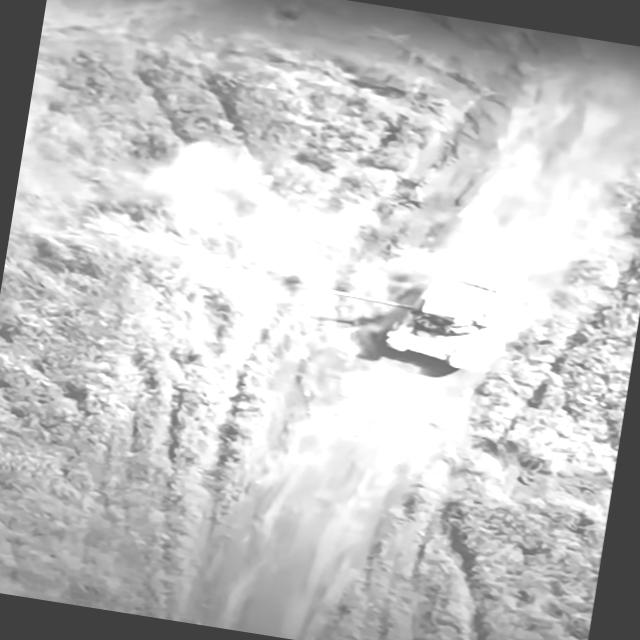MBT: (287, 251, 509, 380)
